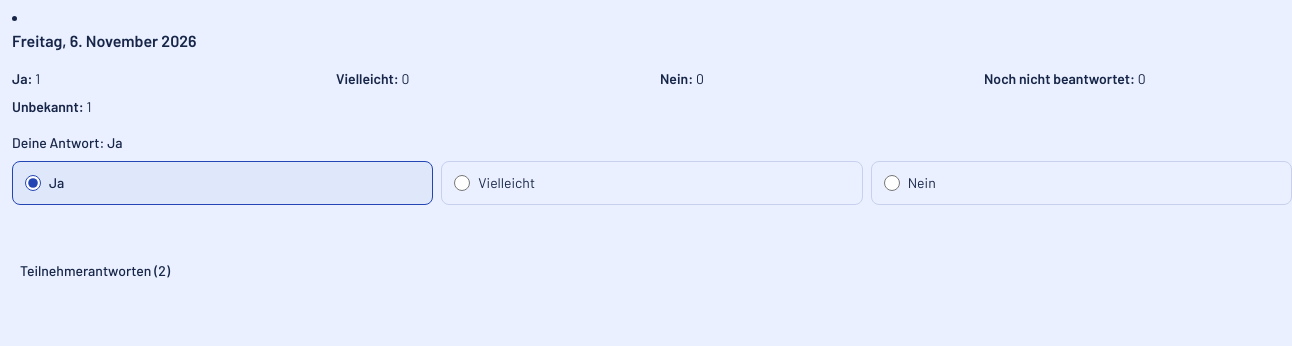
Test case: DateProposalItem › shows full date, named counts, saved answer, and participant response text
Expected: the heading "Freitag, 6. November 2026" is shown, left=12, top=29, right=196, bottom=53
Expected: the element showing "Ja: 1" is shown, left=12, top=70, right=40, bottom=87
Click the heading "Teilnehmerantworten (2)".
click(95, 270)  # box left=20, top=262, right=170, bottom=279
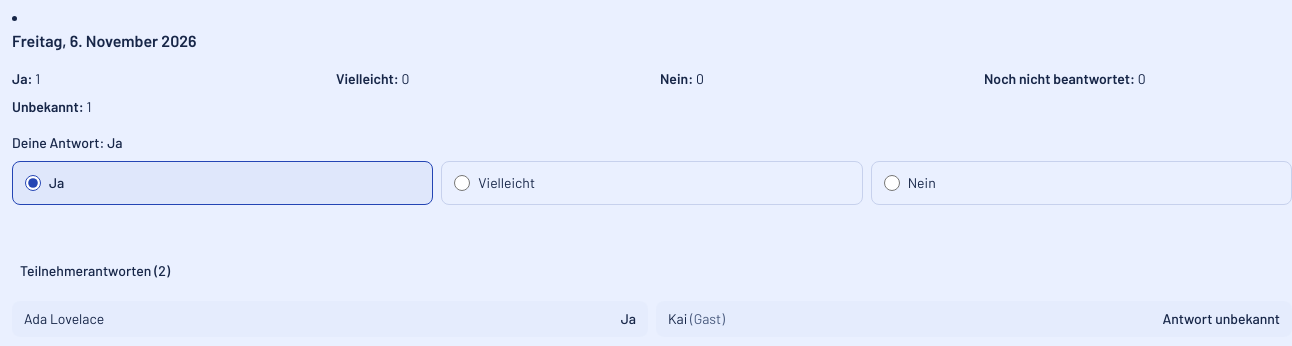
Expected: the text "Antwort unbekannt" is shown, left=1162, top=309, right=1280, bottom=329
